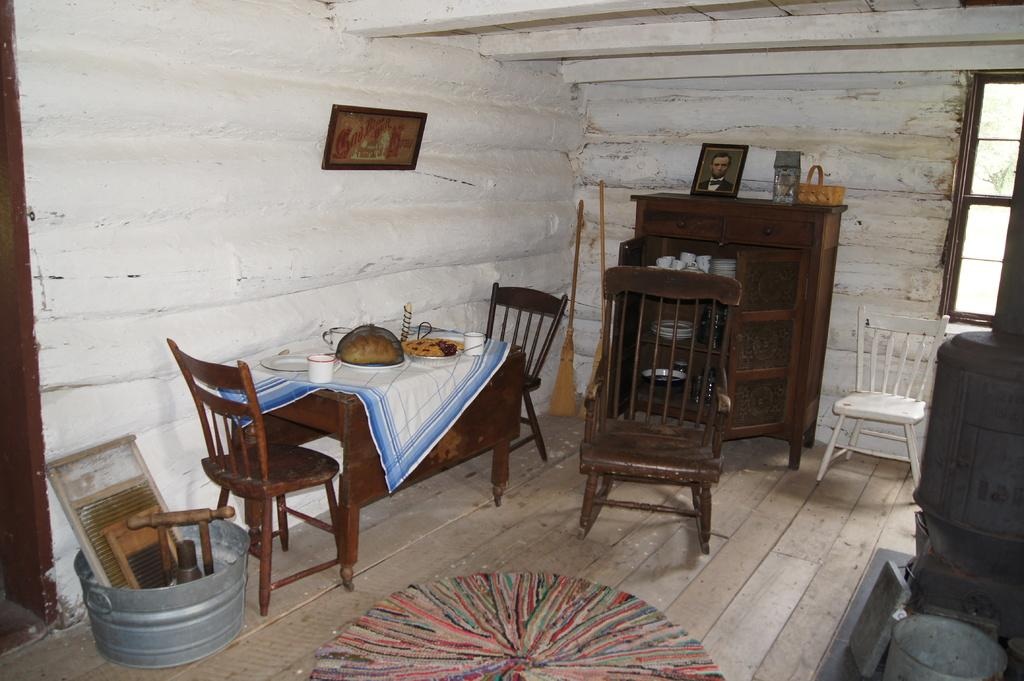Chair: (165, 337, 345, 616), (577, 264, 742, 555), (815, 304, 950, 489), (483, 281, 569, 462)
